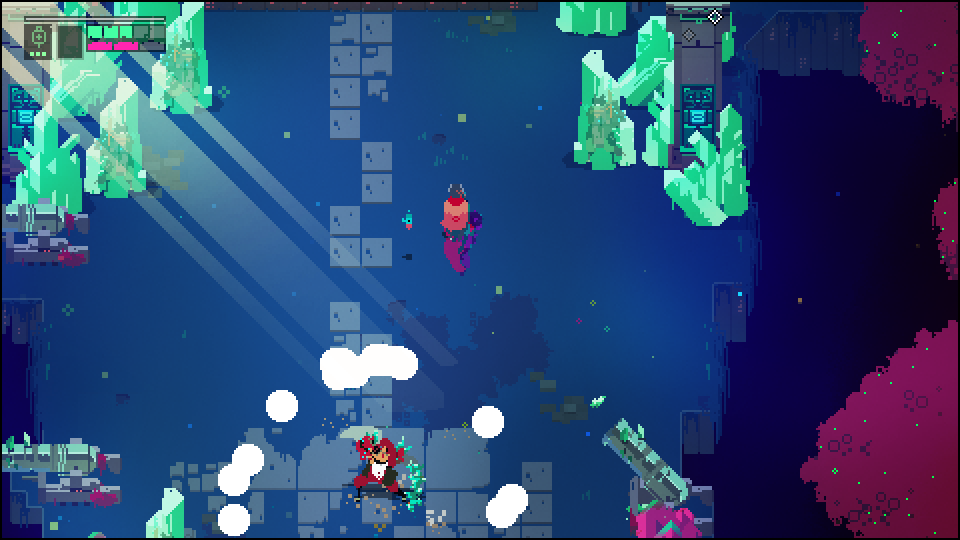hanged_man: (335, 421, 424, 518)
player: (440, 181, 471, 245)
